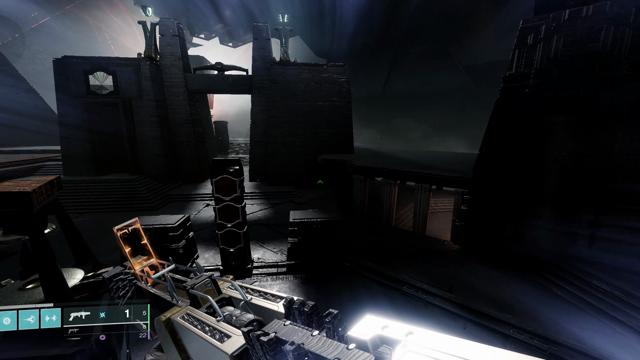commune: (89, 72, 114, 95)
